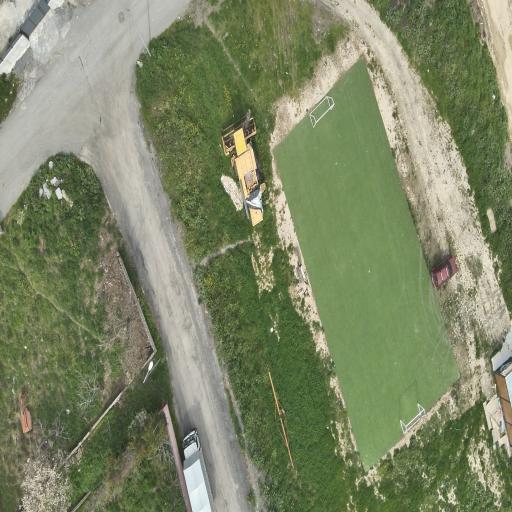car: (182, 429, 214, 511), (430, 256, 455, 287)
harvester: (221, 110, 264, 224)
